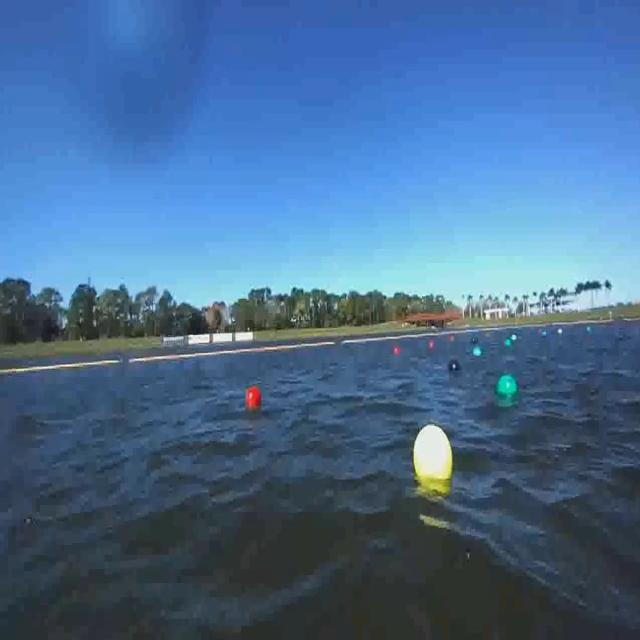green-buoy: (497, 373, 517, 398)
red-buoy: (245, 385, 259, 408)
yellow-buoy: (412, 421, 454, 486)
